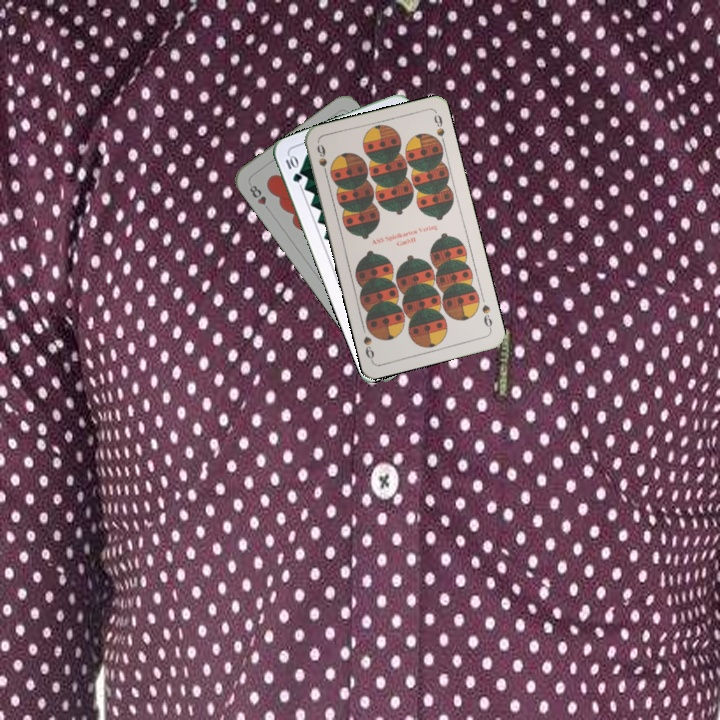G10: (281, 151, 305, 185)
H8: (245, 181, 274, 215)
S9: (313, 140, 330, 180), (478, 300, 495, 333)
